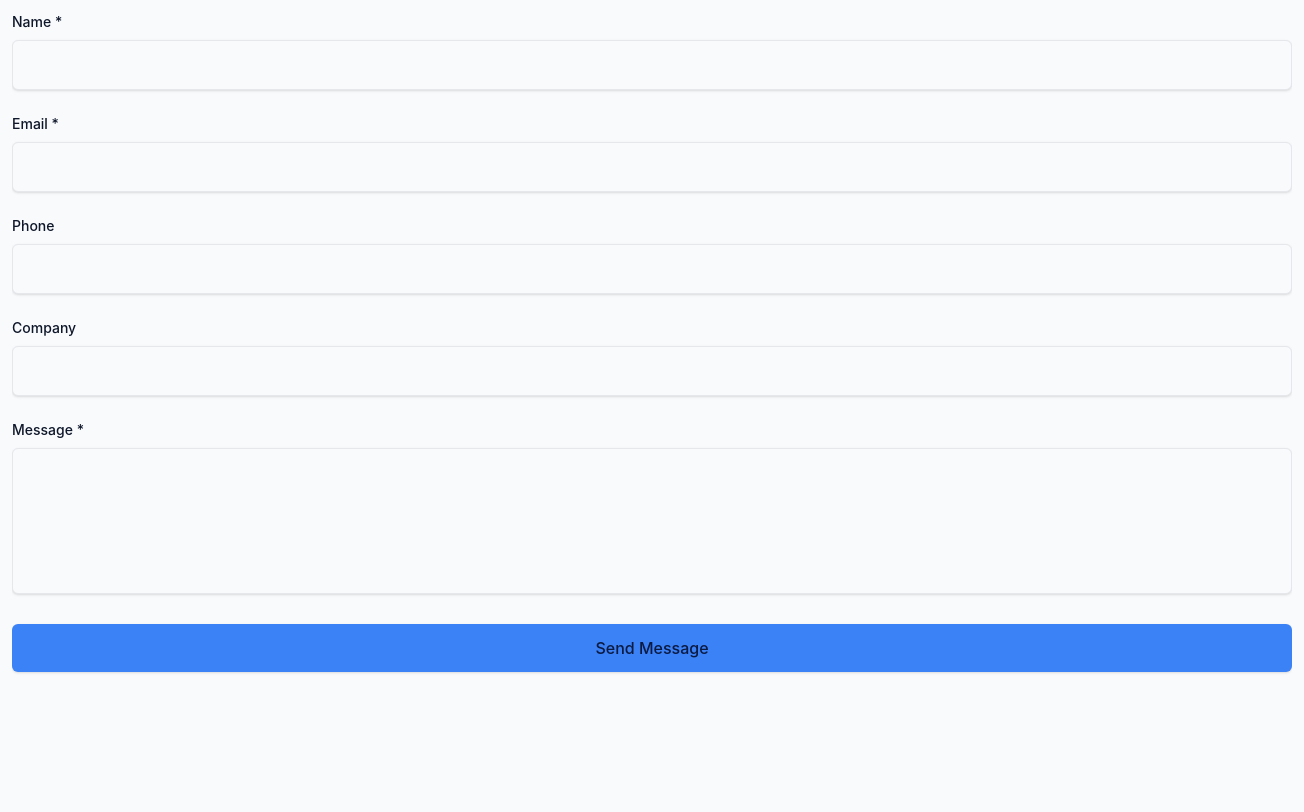
it: ContactForm › displays validation errors for required fields
The image size is (1304, 812).
Submit form without filling required fields
Click the button "Send Message" at [652, 648], box left=12, top=624, right=1292, bottom=672
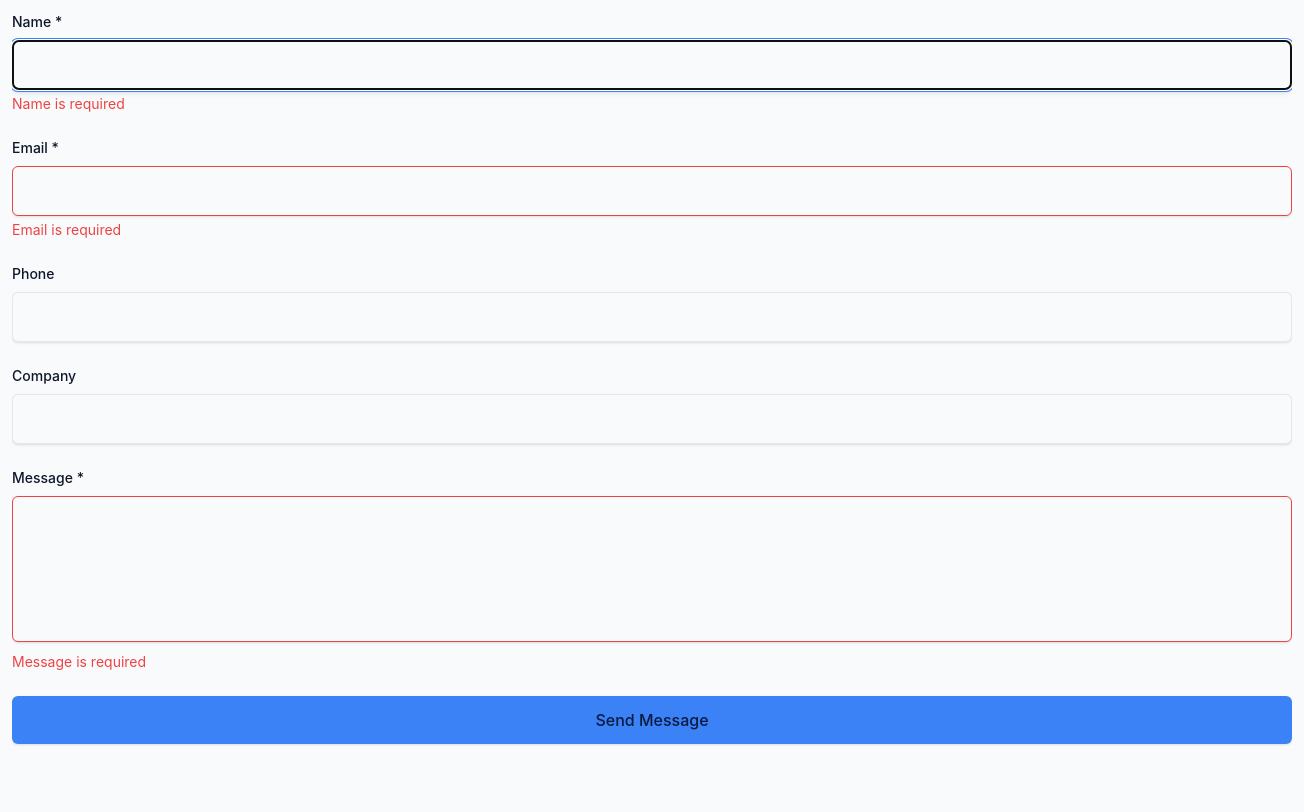
Expected: the text "Name is required" is shown, left=12, top=95, right=125, bottom=112
Expected: the text "Email is required" is shown, left=12, top=221, right=121, bottom=238
Expected: the text "Message is required" is shown, left=12, top=653, right=146, bottom=670
